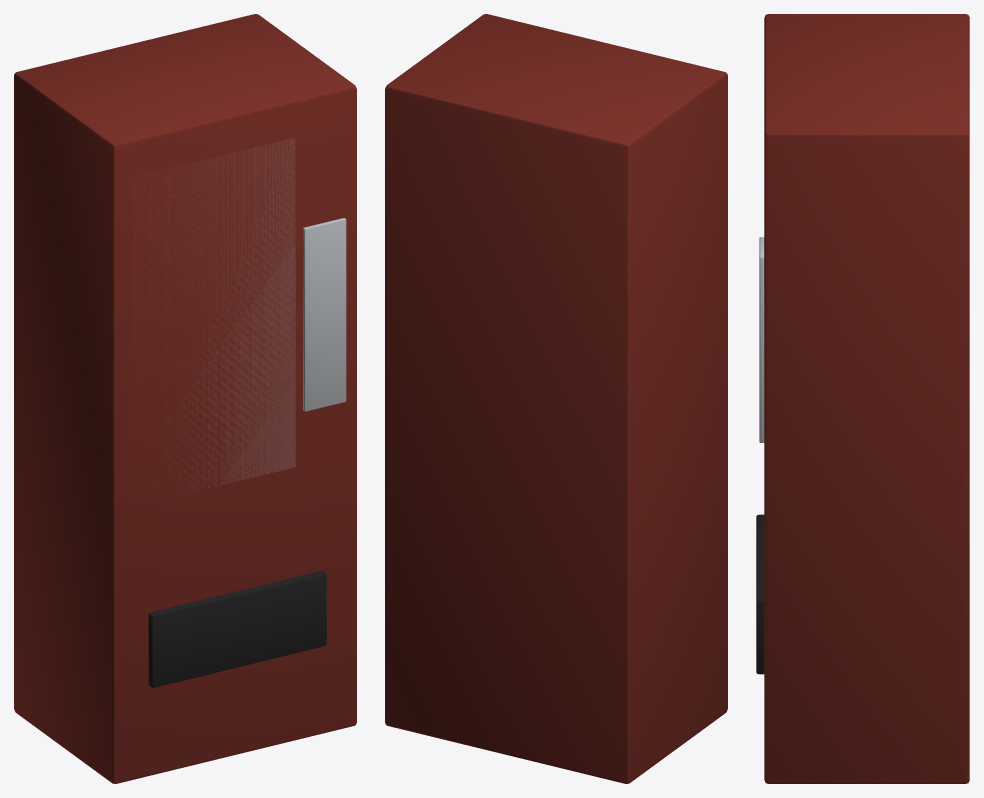
Rendered from mae_vending.glb.
3 views of the same model, side by side, from view 1: azimuth 30°, elevation 25°; view 2: azimuth 150°, elevation 25°; view 3: azimuth 270°, elevation 25° (orthographic).
Visible parts, largest first — view 1: mae_vending; view 2: mae_vending; view 3: mae_vending.
Part boxes in pixels (left/top/right/bottom): mae_vending: left=14, top=14, right=356, bottom=783; mae_vending: left=385, top=14, right=727, bottom=783; mae_vending: left=756, top=14, right=969, bottom=783.
Bounding box in the file's own units: 0.7 × 1.75 × 0.52.
